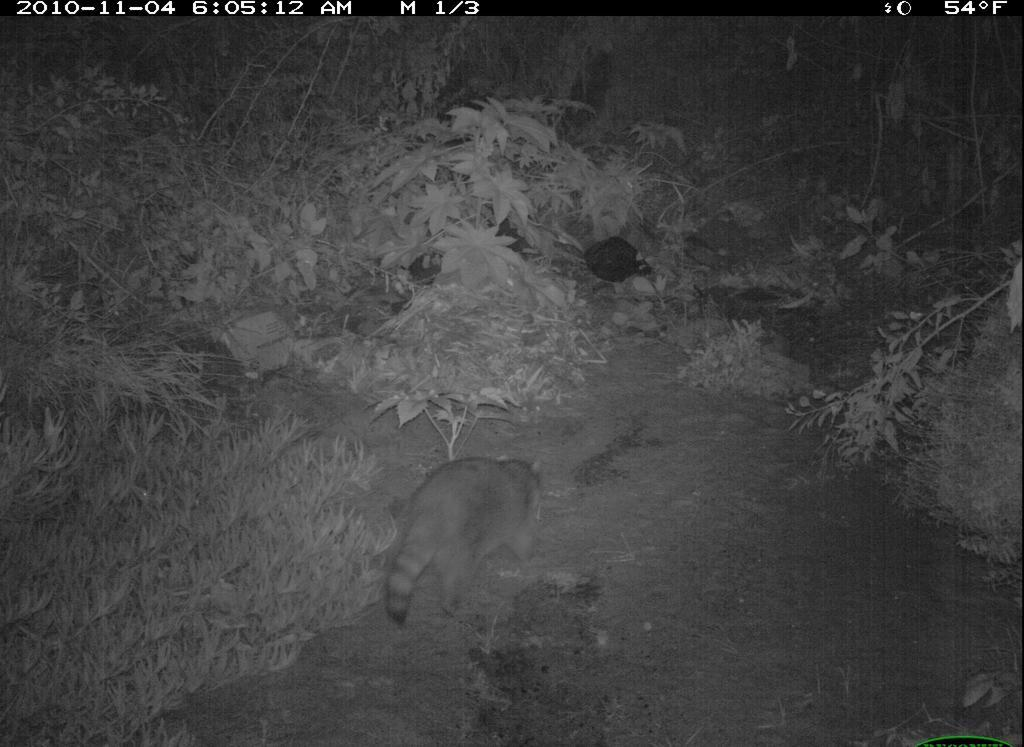raccoon: (373, 442, 564, 629)
